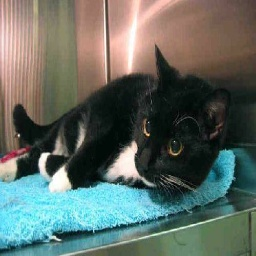cat: (8, 44, 231, 212)
